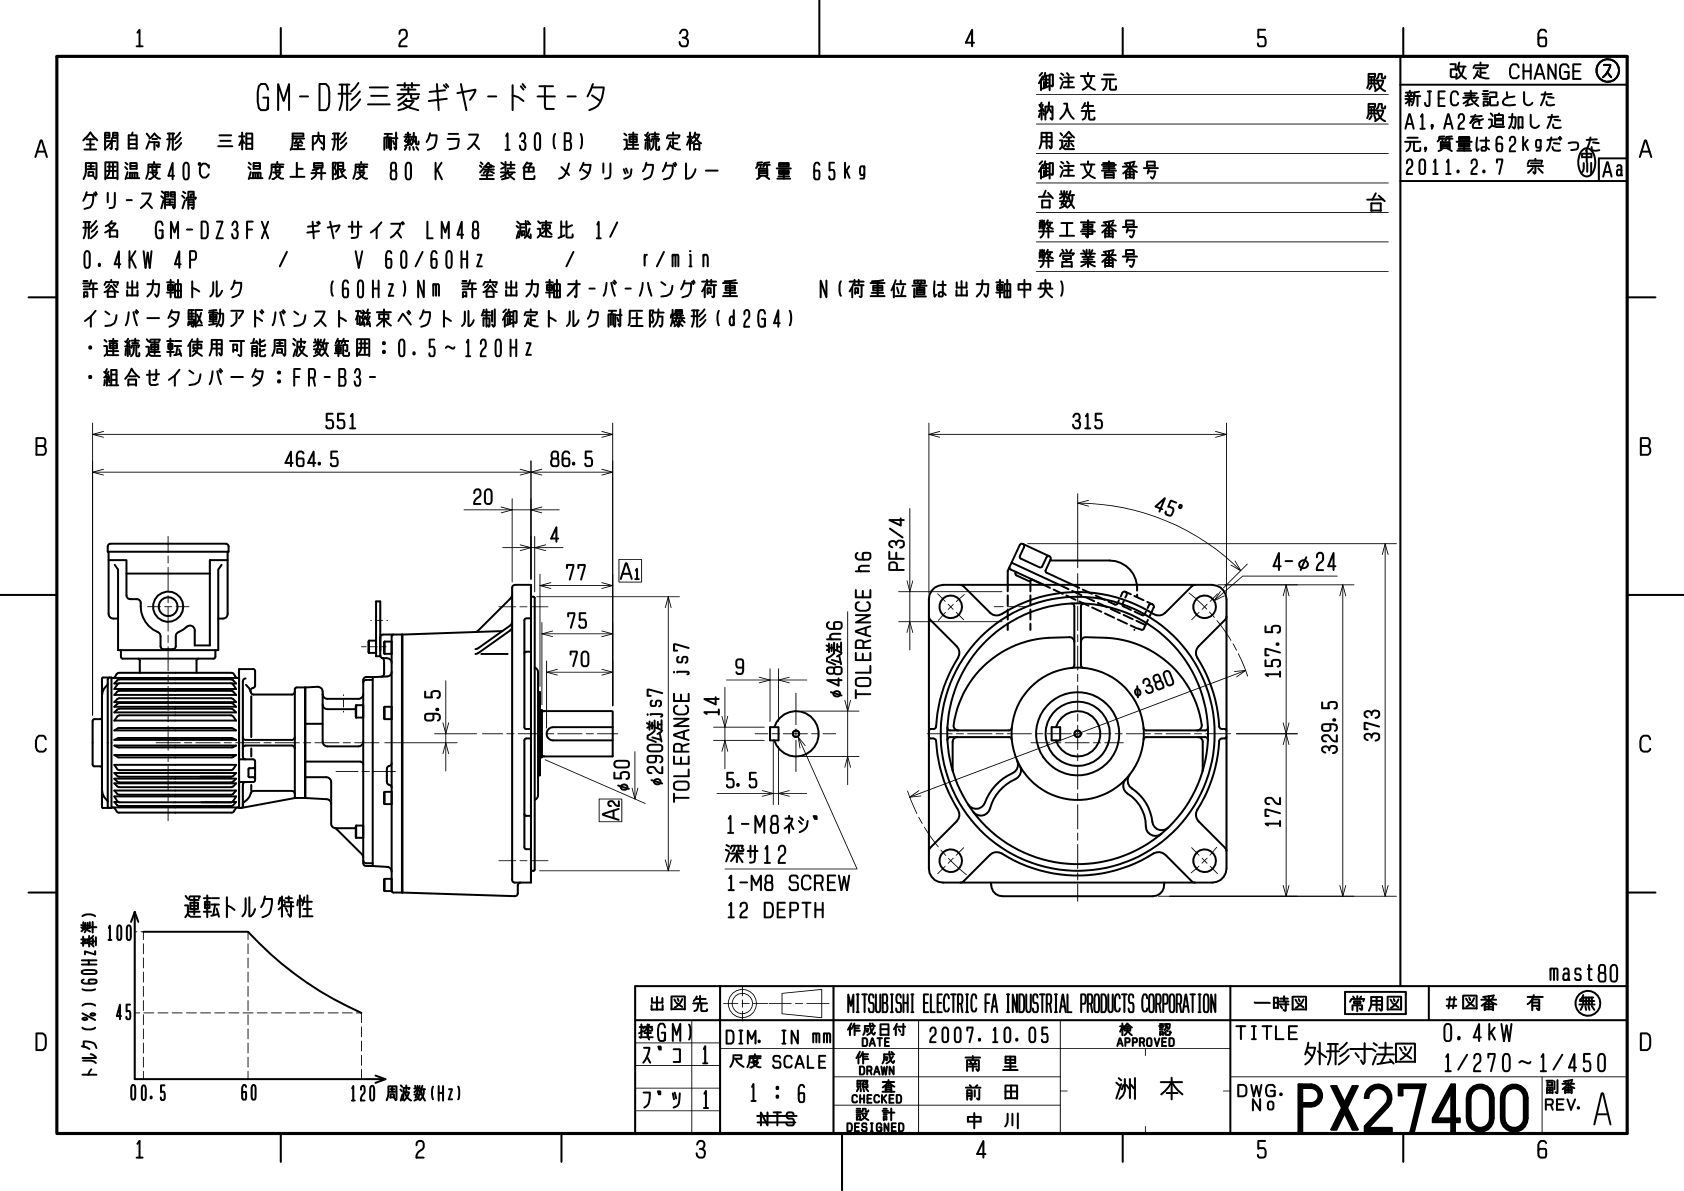GM_D_制御屋内_三相_フランジ: (1, 1, 1672, 1181)
